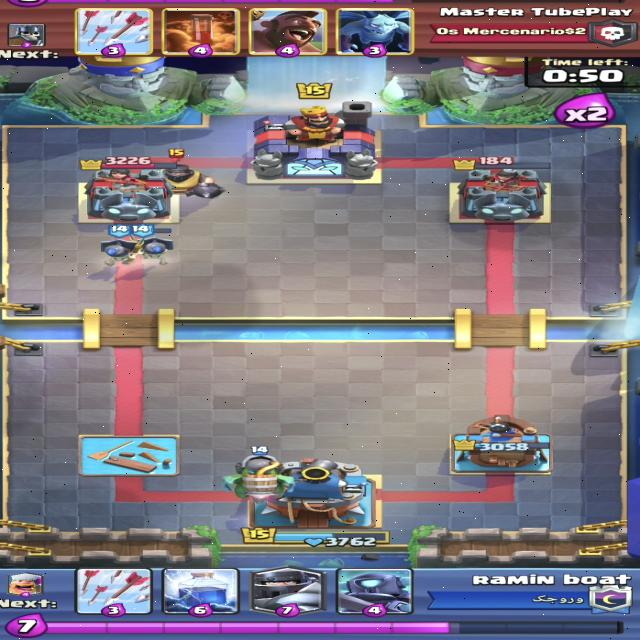Enemy-MegaKnight: (134, 148, 227, 199)
Player-Guard: (127, 223, 176, 266), (97, 224, 144, 266)
Player-InfernoDragon: (220, 445, 297, 504)
